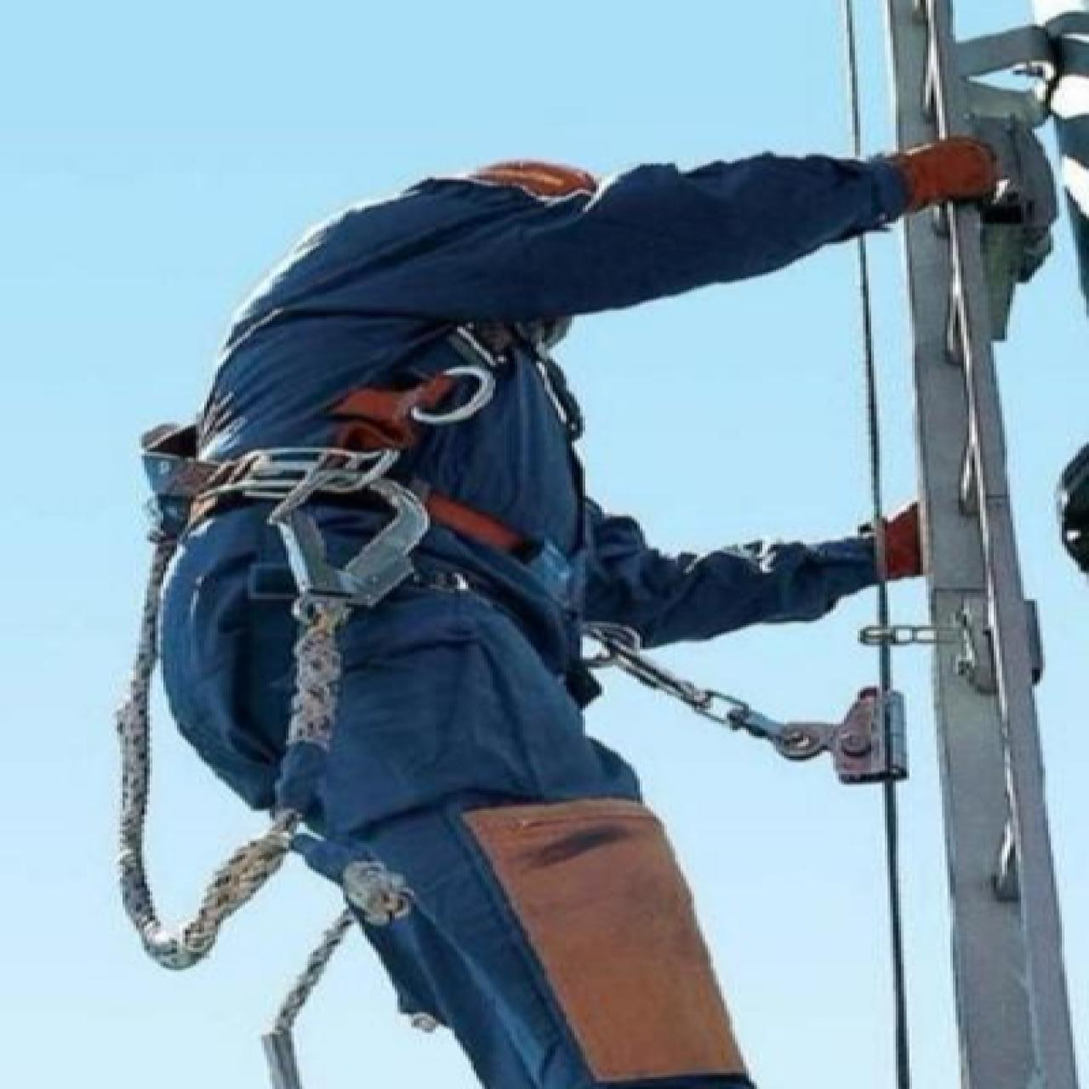NO_Safety_Vest: (134, 165, 645, 679)
Person: (68, 121, 1026, 1089)
